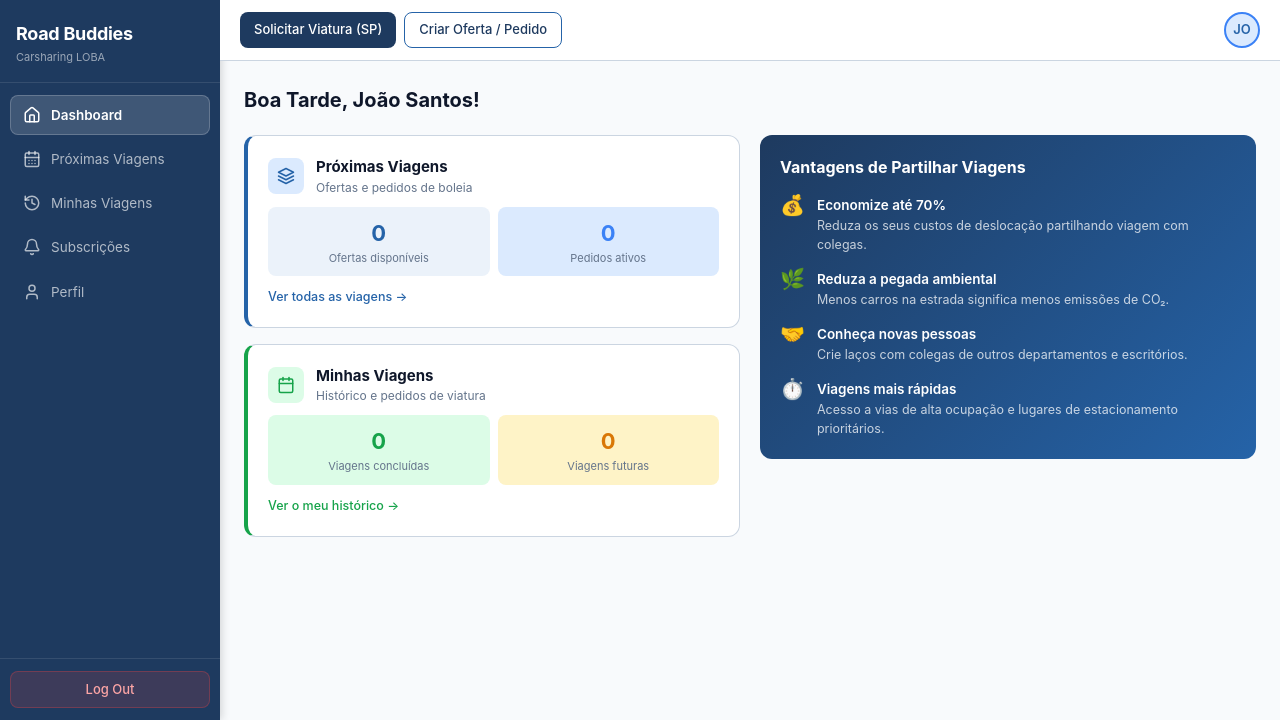
Test case: Gestão de Viagens › deve navegar para o formulário de criação de viagem
Check: the text "Road Buddies" is shown, box x1=16 y1=20 x2=133 y2=47
Click the button "Criar Oferta / Pedido": (483, 30) x1=404 y1=12 x2=562 y2=48
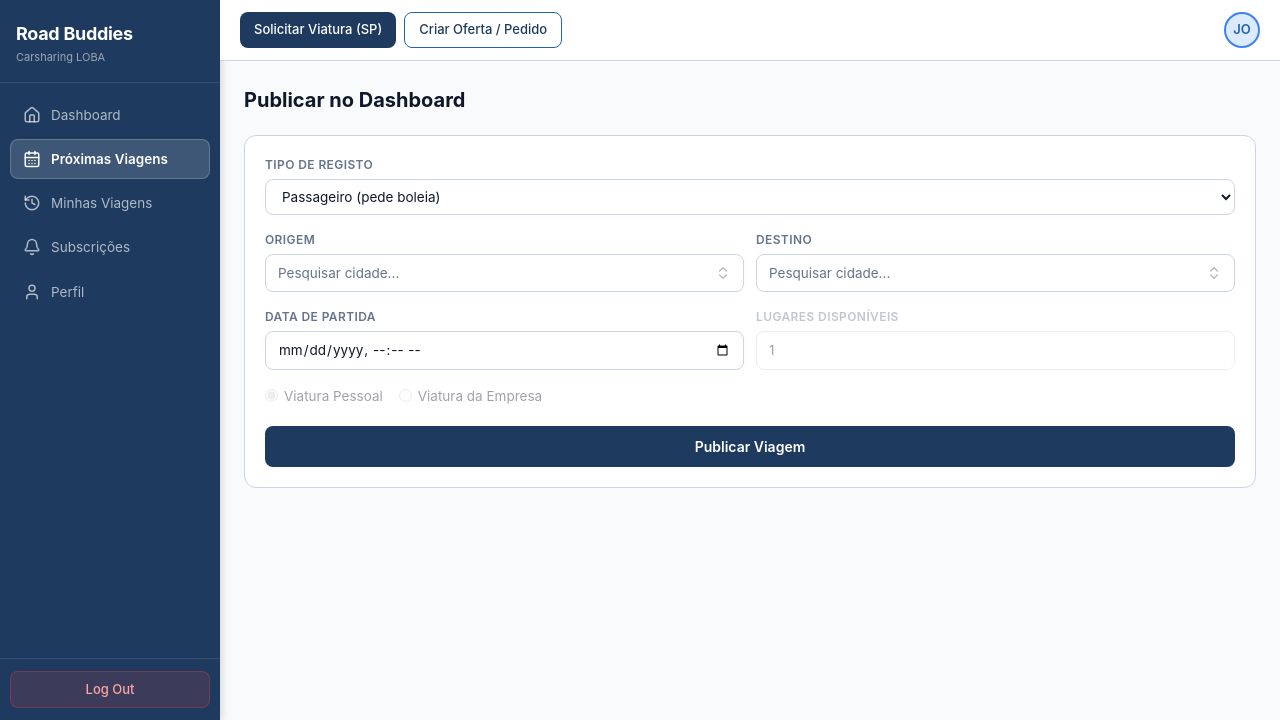
Check: the button "Publicar Viagem" is shown, box x1=265 y1=426 x2=1235 y2=467
Check: the text "Origem" is shown, box x1=265 y1=232 x2=315 y2=247
Check: the text "Destino" is shown, box x1=756 y1=232 x2=812 y2=247
